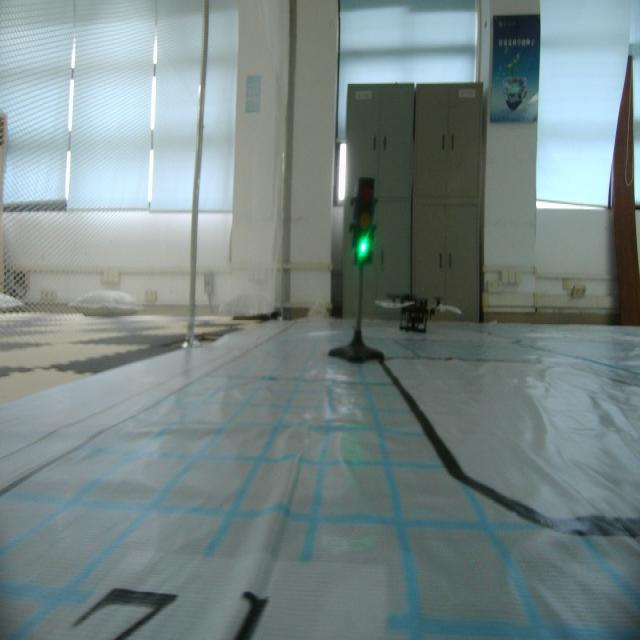green: (349, 174, 380, 268)
